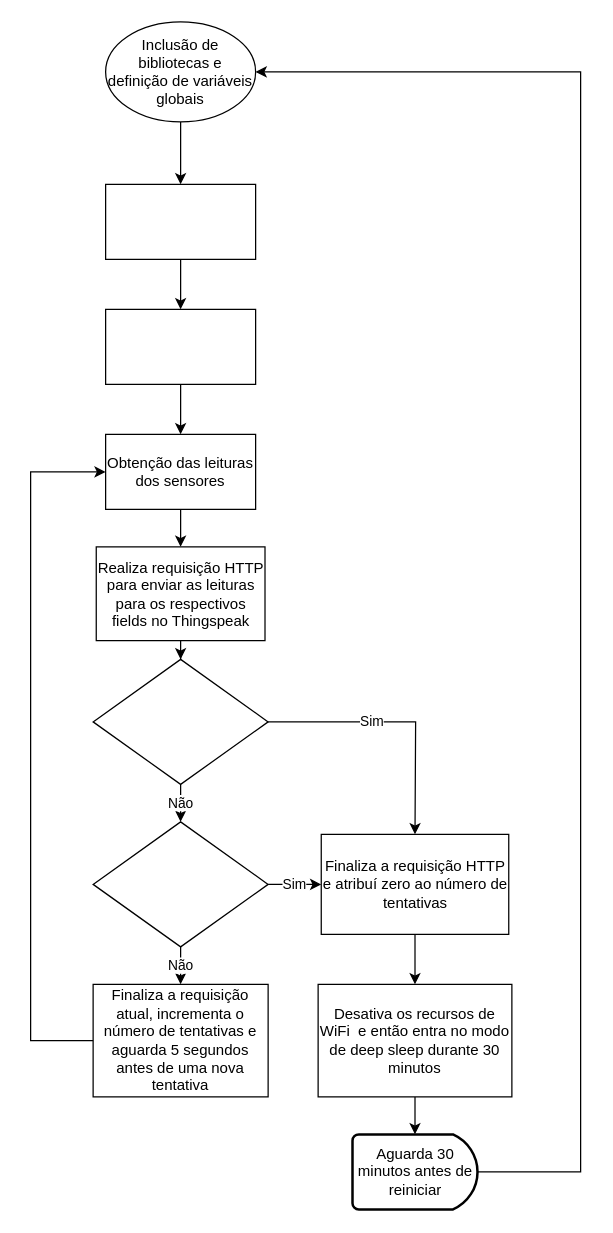
Image size: 613x1233. Some labels were removed from this diagram. The shapes that lost their labels are listed below. From the top down, each one's centre as x and y in pixels, then its label:
At [180,221]: "Estabelecimento da conexão WiFi do ESP32 com a rede estabelecida".
At [180,346]: "Configuração do sensor DHT22".
At [180,721]: "A solicitação foi bem sucedida?".
At [180,884]: "Já foram feitas 10 tentativas?".
